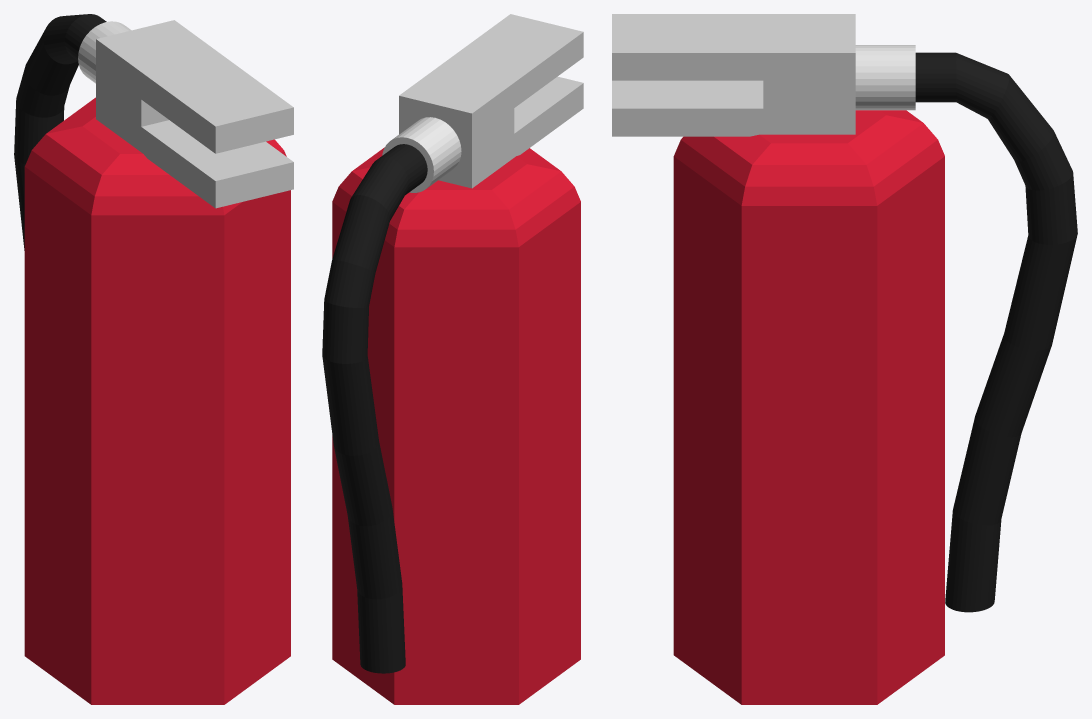
Rendered from Extintor.fbx.
The picture shows the model from 3 angles, left to right: view 1: azimuth 30°, elevation 25°; view 2: azimuth 150°, elevation 25°; view 3: azimuth 270°, elevation 25°; orthographic projection. The views are drawn at different scales.
Visible parts, largest first — view 1: Body, Trigger, Tube, TriggerJoint; view 2: Body, Tube, Trigger, TriggerJoint; view 3: Body, Tube, Trigger, TriggerJoint.
Boxes of the visible parts, x1,y1,x2,y2 form: Body: (24, 97, 290, 704); Trigger: (96, 20, 293, 208); Tube: (14, 14, 106, 250); TriggerJoint: (78, 21, 131, 83); Body: (332, 147, 580, 704); Tube: (322, 144, 427, 673); Trigger: (399, 14, 583, 188); TriggerJoint: (382, 117, 461, 192); Body: (673, 110, 944, 704); Tube: (915, 52, 1077, 612); Trigger: (612, 14, 855, 136); TriggerJoint: (855, 45, 915, 110).
Bounding box in the file's own units: 173 × 506 × 343.
